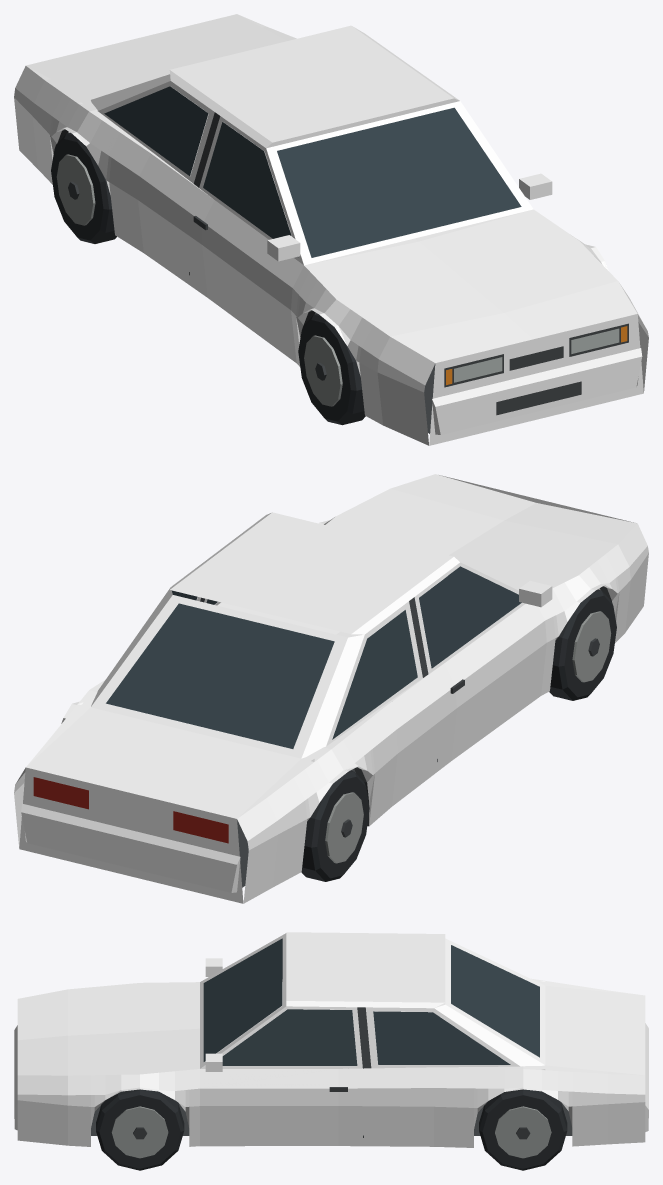
Rendered from rauhe_fink_s_ii.glb.
3 views of the same model, one above another, from view 1: azimuth 30°, elevation 25°; view 2: azimuth 150°, elevation 25°; view 3: azimuth 270°, elevation 25° (orthographic). The views are drawn at different scales.
Parts seen in each view (by area): view 1: rauhe_fink_s_ii; view 2: rauhe_fink_s_ii; view 3: rauhe_fink_s_ii.
Boxes of the visible parts, box(x1,y1,x2,y2) form: rauhe_fink_s_ii: box(14, 14, 648, 445); rauhe_fink_s_ii: box(14, 474, 648, 903); rauhe_fink_s_ii: box(14, 932, 648, 1170).
Size of the model in its own units: 1.75 by 1.21 by 4.49.
8 materials, 1 textured.
